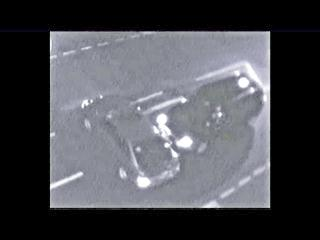Car: (80, 95, 181, 190), (158, 75, 263, 155)
Minor Accident: (78, 74, 264, 191)
